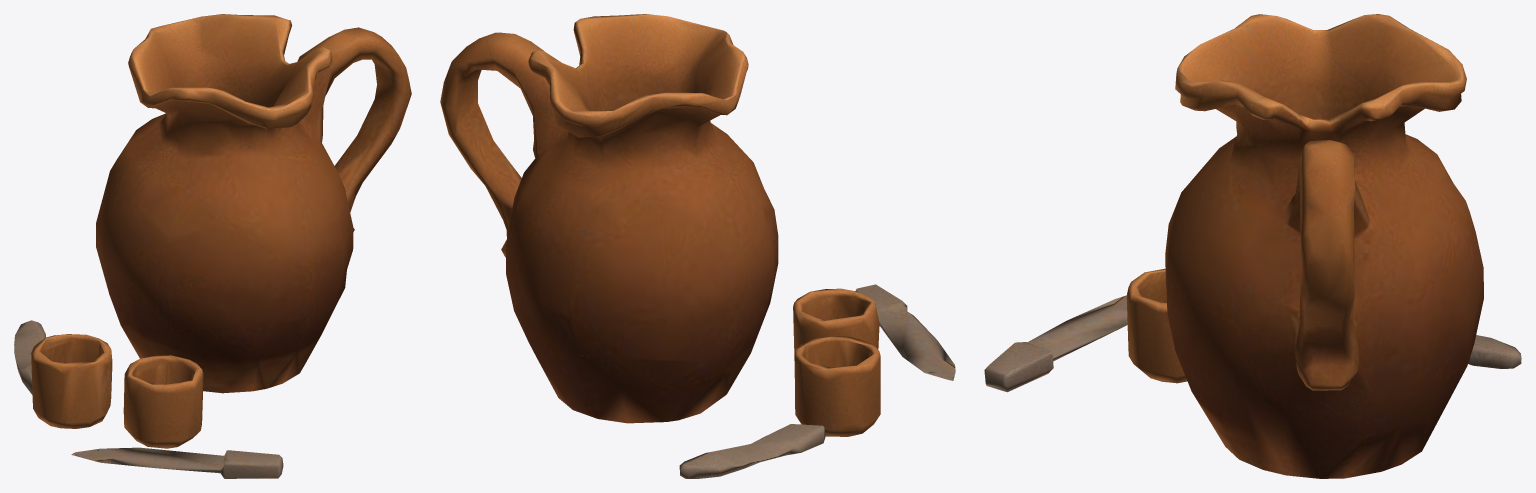
Rendered from jug.glb.
3 views of the same model, side by side, from view 1: azimuth 30°, elevation 25°; view 2: azimuth 150°, elevation 25°; view 3: azimuth 270°, elevation 25° (orthographic). The views are drawn at different scales.
Parts seen in each view (by area): view 1: jug; view 2: jug; view 3: jug.
Part boxes in pixels (<box>): jug: <box>14,14,411,478</box>; jug: <box>440,14,955,478</box>; jug: <box>984,14,1521,478</box>.
Size of the model in its own units: 0.4071 by 0.3 by 0.3771.
Materials: 1 (1 with a texture image).
